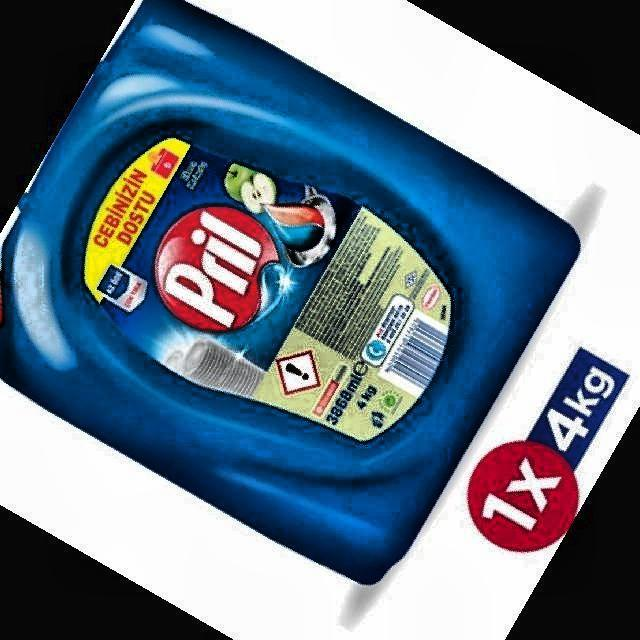plastic: (0, 0, 579, 583)
